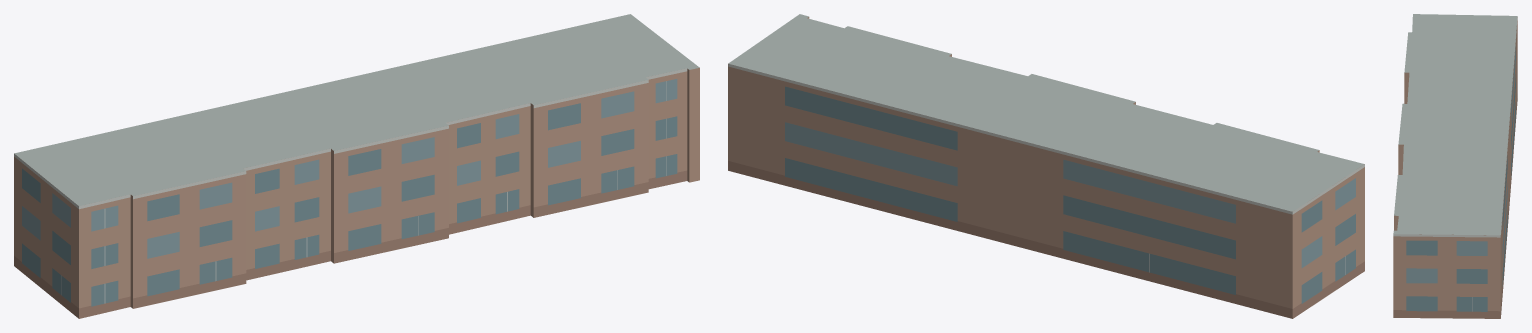
The model's file is survey-upis-32995875.glb.
3 renders of one model, left to right at view 1: azimuth 30°, elevation 25°; view 2: azimuth 150°, elevation 25°; view 3: azimuth 270°, elevation 25°, orthographic. The views are drawn at different scales.
Parts seen in each view (by area): view 1: survey-upis-32995875.tmp; view 2: survey-upis-32995875.tmp; view 3: survey-upis-32995875.tmp.
Part boxes in pixels (x1,y1,x2,y2): survey-upis-32995875.tmp: (14,14,699,318); survey-upis-32995875.tmp: (728,14,1364,318); survey-upis-32995875.tmp: (1393,14,1517,318).
Bounding box in the file's own units: 51.92 × 9.15 × 12.32.
